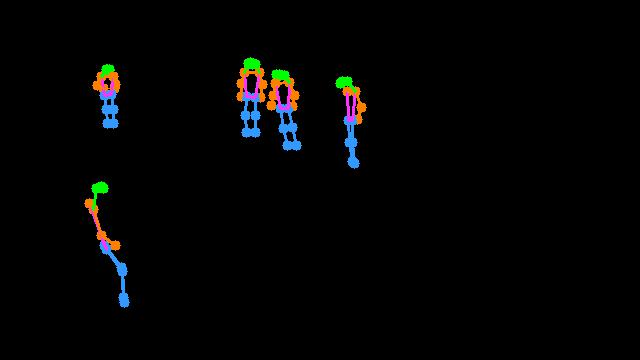normal: (75, 175, 145, 318), (228, 51, 308, 158), (323, 68, 373, 177), (83, 52, 133, 142)
